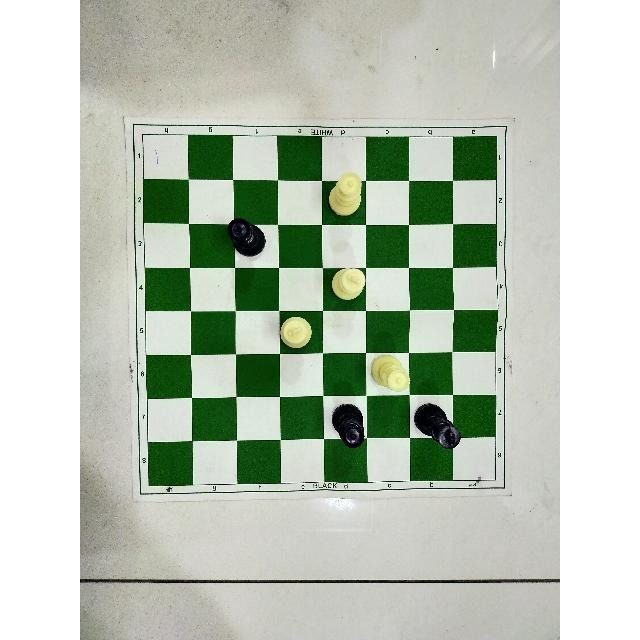black-king: (414, 401, 466, 456)
black-queen: (326, 403, 373, 451), (225, 209, 268, 259)
white-king: (325, 267, 378, 302), (274, 312, 321, 350)
white-queen: (368, 351, 409, 395), (331, 170, 365, 222)
